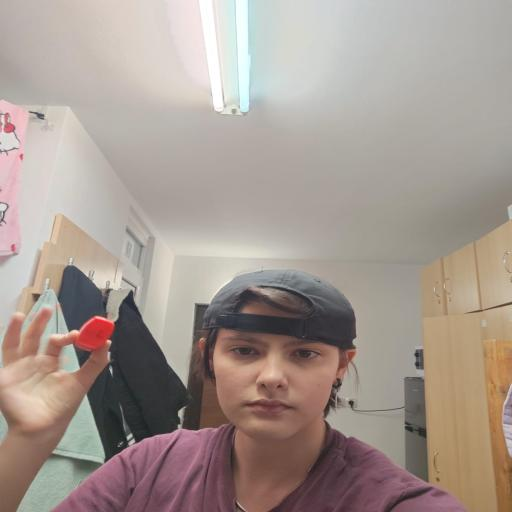Super Glue: (73, 314, 113, 353)
